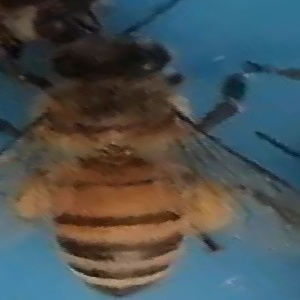bee: (10, 33, 257, 299)
